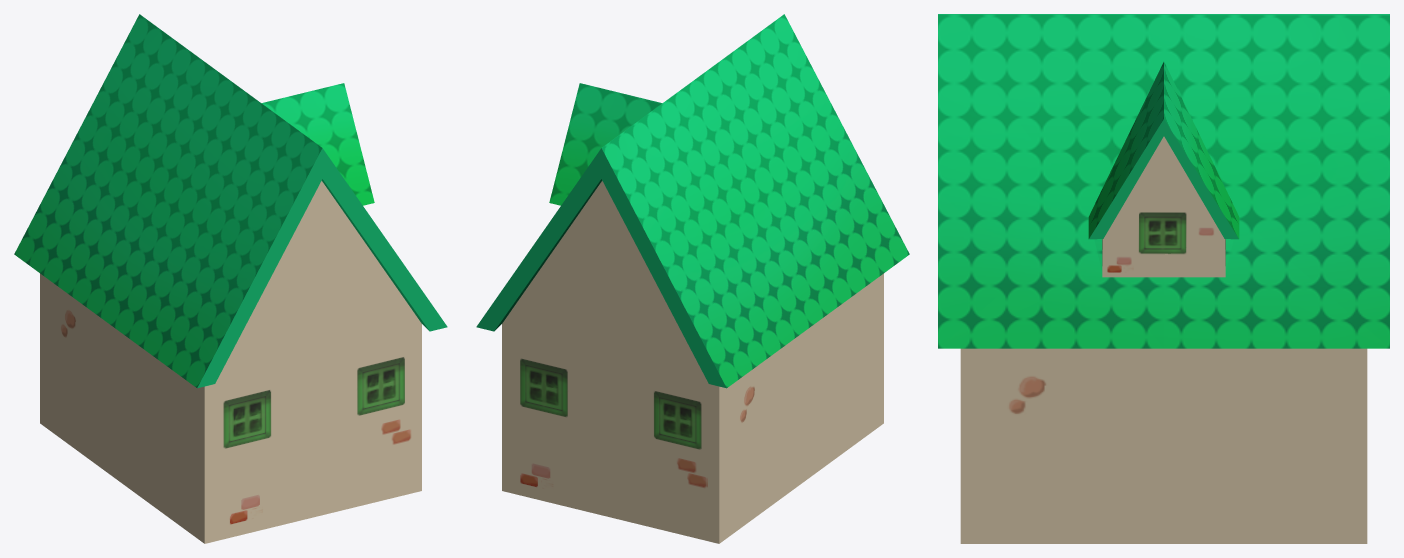
File: house 1'.FBX
The picture shows the model from 3 angles, left to right: view 1: azimuth 30°, elevation 25°; view 2: azimuth 150°, elevation 25°; view 3: azimuth 270°, elevation 25°; orthographic projection. The views are drawn at different scales.
Visible parts, largest first — view 1: Object002; view 2: Object002; view 3: Object002.
Boxes of the visible parts, bbox=[...] form: Object002: bbox=[14, 14, 447, 543]; Object002: bbox=[476, 14, 909, 543]; Object002: bbox=[938, 14, 1389, 543].
Size of the model in its own units: 46 by 65.98 by 58.17.
Materials: 1 (1 with a texture image).
